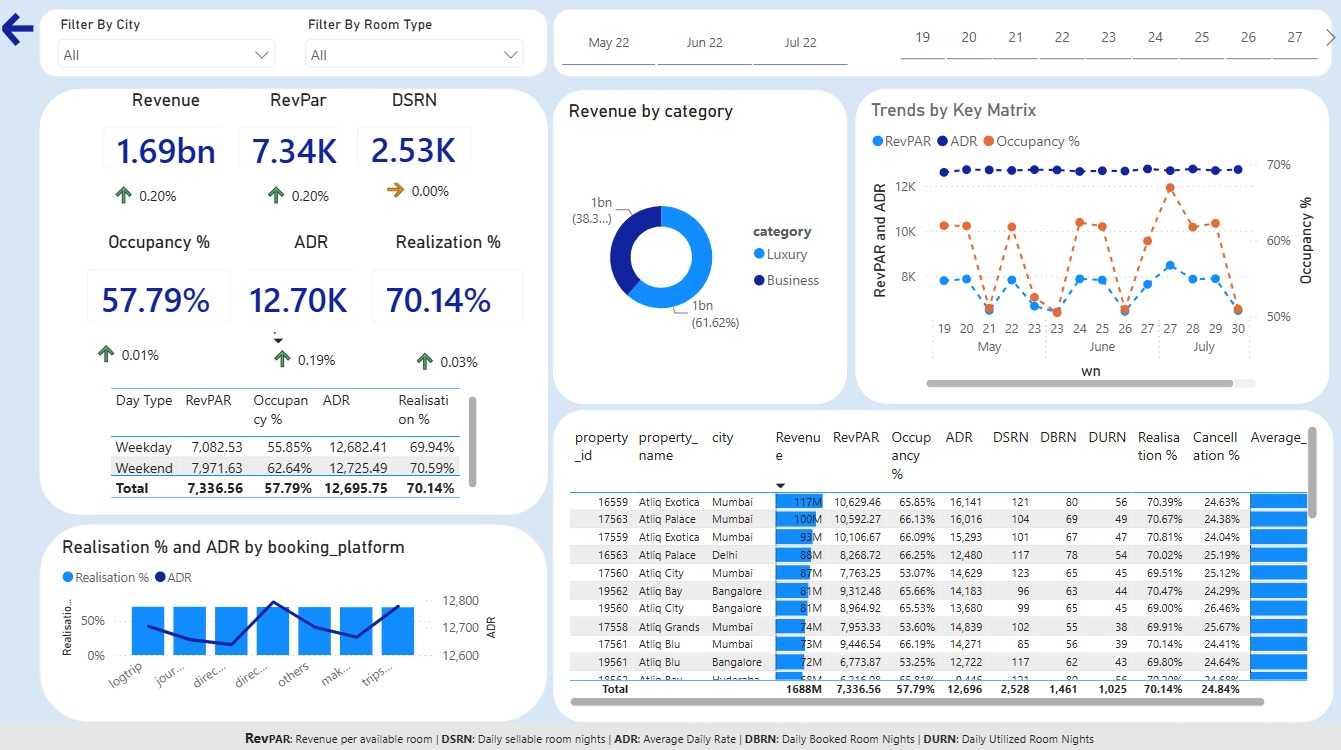

This screenshot's page, from the dashboard's own definition file:
{"tool":"powerbi","page":{"name":"Page 2","canvas":[1280,720],"ordinal":1},"visuals":[{"type":"shape","box":[19.2,394.8,491.9,297.7],"z":0},{"type":"shape","box":[31.9,83.1,508.5,306.6],"z":1000},{"type":"tableEx","fields":{"Values":["key_metrics.Realisation WoW change %"]},"box":[373.1,299,120.1,74.1],"z":2000},{"type":"cardVisual","title":"ADR","fields":{"Data":["key_metrics.ADR"]},"box":[212.1,218.5,177.3,105],"z":3000},{"type":"tableEx","fields":{"Values":["key_metrics.ADR WoW change %"]},"box":[245.3,299,81.8,61.3],"z":4000},{"type":"tableEx","fields":{"Values":["key_metrics.Occupancy WoW change %"]},"box":[83.1,297.7,99.7,75.4],"z":5000},{"type":"tableEx","fields":{"Values":["key_metrics.DSRN WoW change %"]},"box":[394.8,140.5,89.4,69],"z":6000},{"type":"tableEx","fields":{"Values":["key_metrics.Revpar WoW change %"]},"box":[238.9,143.1,94.6,65.2],"z":7000},{"type":"tableEx","fields":{"Values":["key_metrics.Revenue WoW change %"]},"box":[99.7,146.9,95.8,71.6],"z":8000},{"type":"shape","box":[529,12.8,742.3,65.2],"z":9000},{"type":"shape","box":[39.6,12.8,484.2,65.2],"z":10000},{"type":"actionButton","box":[0,12.8,99.7,39.6],"z":11000},{"type":"tableEx","fields":{"Values":["dim_hotels.property_id","dim_hotels.property_name","dim_hotels.city","key_metrics.Revenue","key_metrics.RevPAR","key_metrics.Occupancy %","key_metrics.ADR","key_metrics.DSRN","key_metrics.DBRN","key_metrics.DURN","key_metrics.Realisation %","key_metrics.Cancellation %"]},"box":[523.9,394.8,747.5,297.7],"z":12000},{"type":"slicer","fields":{"Values":["dim_hotels.city"]},"box":[46,15.3,227.4,83.1],"z":13000},{"type":"slicer","fields":{"Values":["dim_rooms.room_class"]},"box":[282.4,15.3,228.7,84.3],"z":14000},{"type":"slicer","fields":{"Values":["dim_date.mmm yy"]},"box":[510.7,17.9,322.6,56],"z":15000},{"type":"slicer","fields":{"Values":["dim_date.wn"]},"box":[833.1,12.8,447.2,54.9],"z":16000},{"type":"cardVisual","title":"Revenue","fields":{"Data":["key_metrics.Revenue"]},"box":[83.1,89.4,153.3,92],"z":17000},{"type":"donutChart","fields":{"Category":["dim_hotels.category"],"Y":["key_metrics.Revenue"]},"box":[552,90.7,256.8,125.2],"z":18000},{"type":"lineClusteredColumnComboChart","fields":{"Category":["fact_bookings.booking_platform"],"Y":["key_metrics.Realisation %"],"Y2":["key_metrics.ADR"]},"box":[56.2,417.8,424.2,255.5],"z":19000},{"type":"cardVisual","title":"RevPar","fields":{"Data":["key_metrics.RevPAR"]},"box":[212.1,89.4,148.2,92],"z":20000},{"type":"cardVisual","title":"DSRN","fields":{"Data":["key_metrics.DSRN"]},"box":[350.1,89.4,143.1,89.4],"z":21000},{"type":"cardVisual","title":"Realization %","fields":{"Data":["key_metrics.Realisation %"]},"box":[350.1,224.9,178.9,104.8],"z":22000},{"type":"cardVisual","title":"Occupancy %","fields":{"Data":["key_metrics.Occupancy %"]},"box":[67.7,224.9,171.2,104.8],"z":23000},{"type":"lineChart","title":"Trends by Key Matrix","fields":{"Category":["dim_date.mmm yy.Variation.Date Hierarchy.Month","dim_date.wn"],"Y":["key_metrics.RevPAR","key_metrics.ADR"],"Y2":["key_metrics.Occupancy %"]},"box":[552,215.9,715.5,173.8],"z":24000},{"type":"tableEx","fields":{"Values":["dim_date.Day Type","key_metrics.RevPAR","key_metrics.Occupancy %","key_metrics.ADR","key_metrics.Realisation %"]},"box":[820.3,84.3,447.2,125.2],"z":25000},{"type":"shape","box":[0,702.7,1280.3,17.9],"z":26000},{"type":"textbox","box":[0,692.5,1280.3,28.1],"z":27000}]}

Visuals, with their boxes in screenshot pixels (x1, y1, x2, y2), scaled from the page's 1280x720 canvas onto the 1341x750 screenshot:
shape: {"x1": 20, "y1": 411, "x2": 535, "y2": 721}
shape: {"x1": 33, "y1": 87, "x2": 566, "y2": 406}
tableEx - key_metrics.Realisation WoW change %: {"x1": 391, "y1": 311, "x2": 517, "y2": 389}
"ADR" cardVisual: {"x1": 222, "y1": 228, "x2": 408, "y2": 337}
tableEx - key_metrics.ADR WoW change %: {"x1": 257, "y1": 311, "x2": 343, "y2": 375}
tableEx - key_metrics.Occupancy WoW change %: {"x1": 87, "y1": 310, "x2": 192, "y2": 389}
tableEx - key_metrics.DSRN WoW change %: {"x1": 414, "y1": 146, "x2": 507, "y2": 218}
tableEx - key_metrics.Revpar WoW change %: {"x1": 250, "y1": 149, "x2": 349, "y2": 217}
tableEx - key_metrics.Revenue WoW change %: {"x1": 104, "y1": 153, "x2": 205, "y2": 228}
shape: {"x1": 554, "y1": 13, "x2": 1332, "y2": 81}
shape: {"x1": 41, "y1": 13, "x2": 549, "y2": 81}
actionButton: {"x1": 0, "y1": 13, "x2": 104, "y2": 55}
tableEx - dim_hotels.property_id x dim_hotels.property_name: {"x1": 549, "y1": 411, "x2": 1332, "y2": 721}
slicer - dim_hotels.city: {"x1": 48, "y1": 16, "x2": 286, "y2": 102}
slicer - dim_rooms.room_class: {"x1": 296, "y1": 16, "x2": 535, "y2": 104}
slicer - dim_date.mmm yy: {"x1": 535, "y1": 19, "x2": 873, "y2": 77}
slicer - dim_date.wn: {"x1": 873, "y1": 13, "x2": 1340, "y2": 71}
"Revenue" cardVisual: {"x1": 87, "y1": 93, "x2": 248, "y2": 189}
donutChart - dim_hotels.category x key_metrics.Revenue: {"x1": 578, "y1": 94, "x2": 847, "y2": 225}
lineClusteredColumnComboChart - fact_bookings.booking_platform x key_metrics.Realisation %: {"x1": 59, "y1": 435, "x2": 503, "y2": 701}
"RevPar" cardVisual: {"x1": 222, "y1": 93, "x2": 377, "y2": 189}
"DSRN" cardVisual: {"x1": 367, "y1": 93, "x2": 517, "y2": 186}
"Realization %" cardVisual: {"x1": 367, "y1": 234, "x2": 554, "y2": 343}
"Occupancy %" cardVisual: {"x1": 71, "y1": 234, "x2": 250, "y2": 343}
"Trends by Key Matrix" lineChart: {"x1": 578, "y1": 225, "x2": 1328, "y2": 406}
tableEx - dim_date.Day Type x key_metrics.RevPAR: {"x1": 859, "y1": 88, "x2": 1328, "y2": 218}
shape: {"x1": 0, "y1": 732, "x2": 1340, "y2": 749}
textbox: {"x1": 0, "y1": 721, "x2": 1340, "y2": 749}
